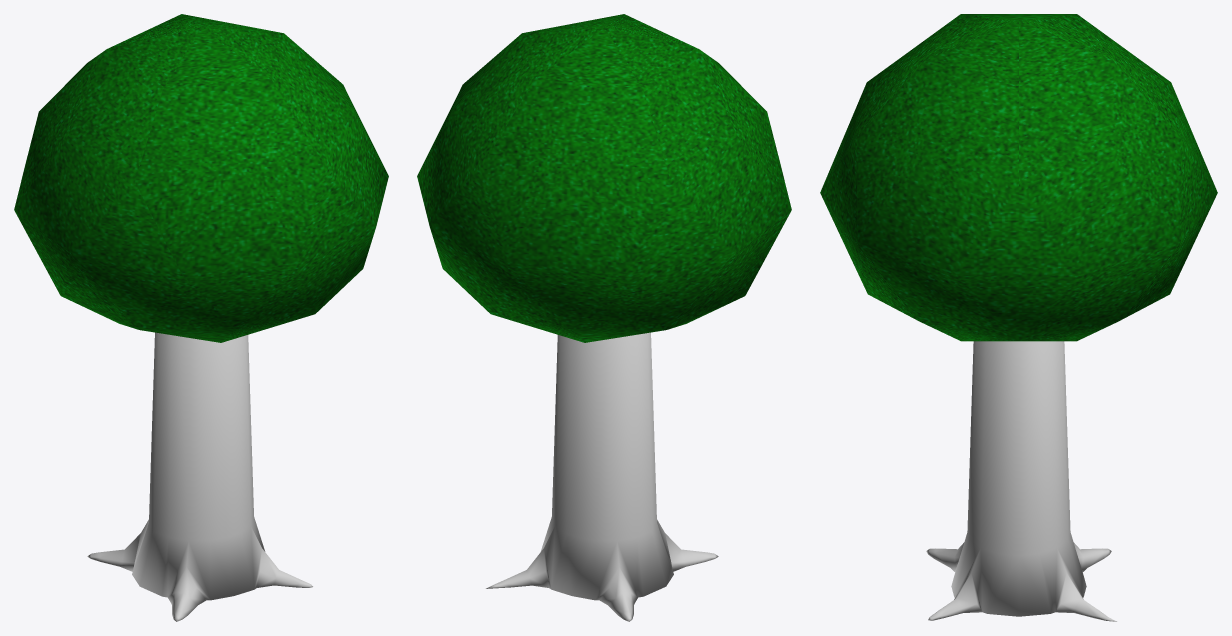
The model's file is Tree2.fbx.
3 views of the same model, side by side, from view 1: azimuth 30°, elevation 25°; view 2: azimuth 150°, elevation 25°; view 3: azimuth 270°, elevation 25° (orthographic). The views are drawn at different scales.
Visible parts, largest first — view 1: Tree; view 2: Tree; view 3: Tree.
Boxes of the visible parts, x1,y1,x2,y2 form: Tree: [14, 14, 388, 621]; Tree: [417, 14, 791, 621]; Tree: [820, 14, 1217, 621].
Size of the model in its own units: 404 by 667 by 425.
